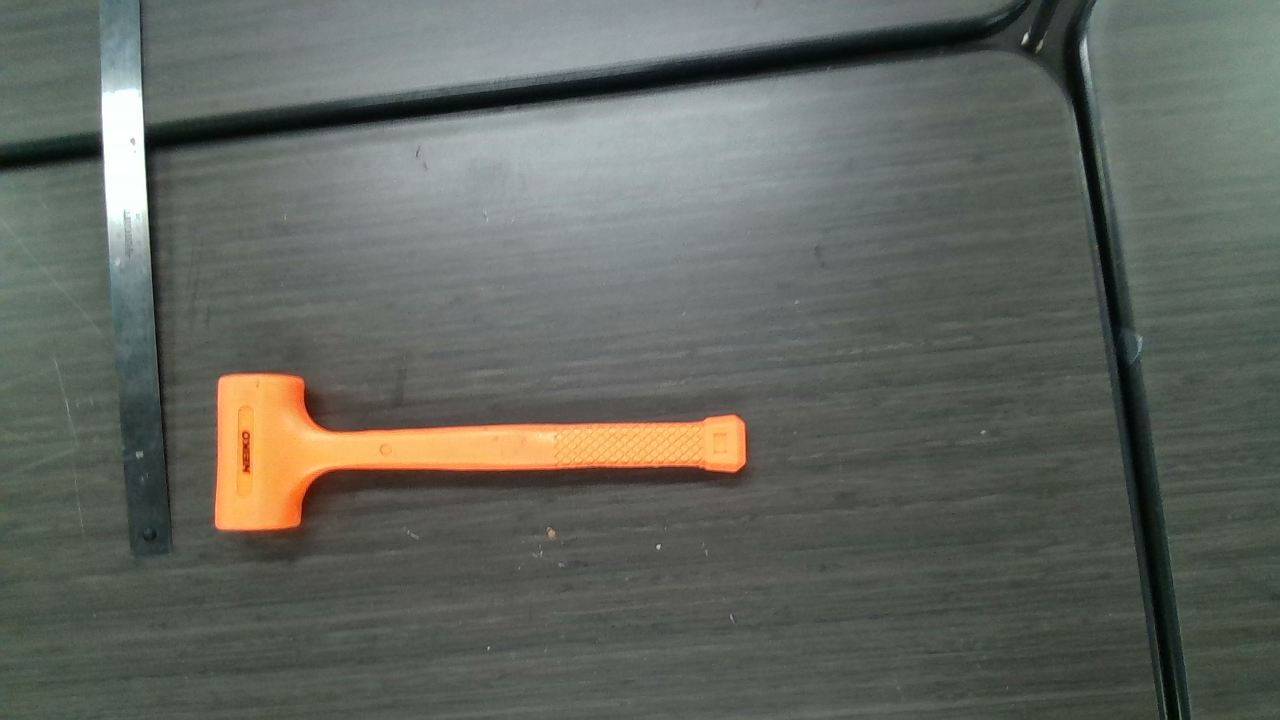Orange Hammer: (219, 375, 751, 529)
